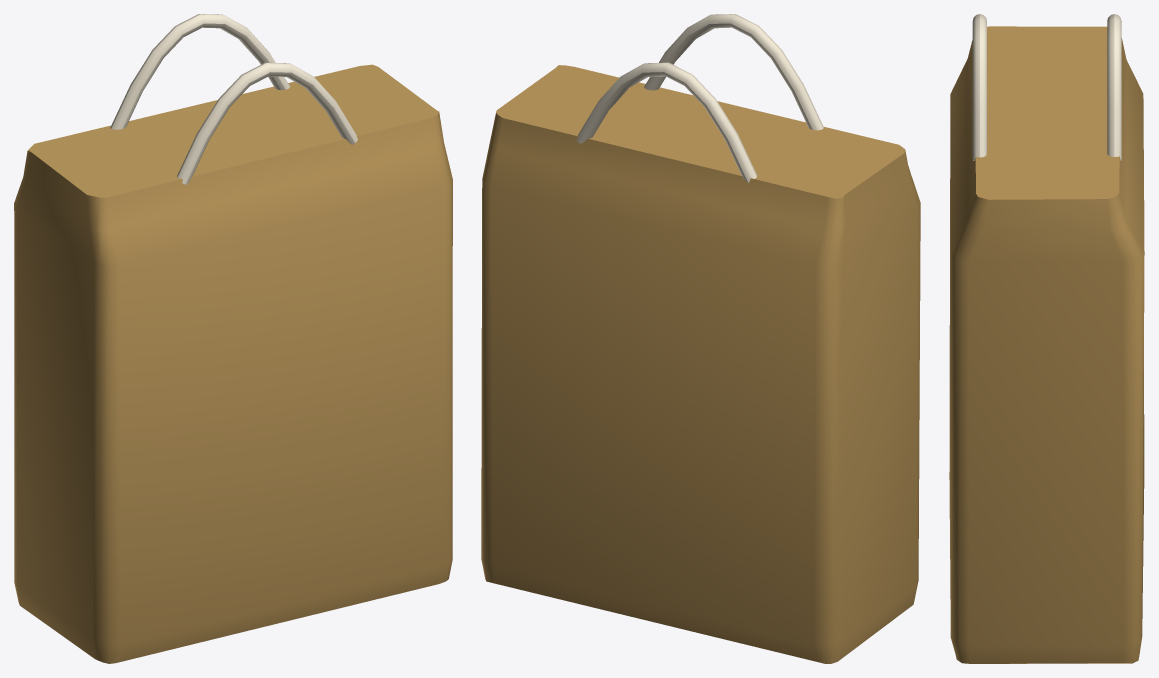
The model's file is sac_boutique.glb.
3 renders of one model, left to right at view 1: azimuth 30°, elevation 25°; view 2: azimuth 150°, elevation 25°; view 3: azimuth 270°, elevation 25°, orthographic.
Parts seen in each view (by area): view 1: SBO_Kraft, SBO_Creme; view 2: SBO_Kraft, SBO_Creme; view 3: SBO_Kraft, SBO_Creme.
Part boxes in pixels (bbox=[...]): SBO_Kraft: bbox=[14, 64, 452, 663]; SBO_Creme: bbox=[110, 14, 357, 184]; SBO_Kraft: bbox=[481, 65, 920, 663]; SBO_Creme: bbox=[577, 14, 823, 183]; SBO_Kraft: bbox=[949, 26, 1144, 663]; SBO_Creme: bbox=[972, 14, 1121, 160].
Bounding box in the file's own units: 0.2614 × 0.385 × 0.1218.
